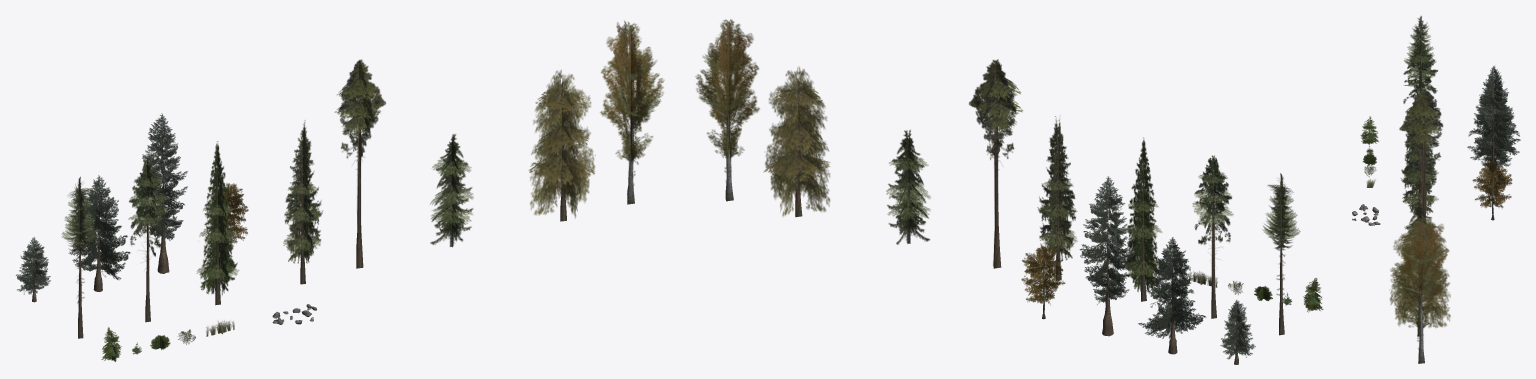
File: trees.glb
The picture shows the model from 3 angles, left to right: view 1: azimuth 30°, elevation 25°; view 2: azimuth 150°, elevation 25°; view 3: azimuth 270°, elevation 25°; orthographic projection. The views are drawn at different scales.
Visible parts, largest first — view 1: Background_Tree_Atlas.004, Background_Tree_Atlas.001, Background_Tree_Atlas, Background_Tree_Atlas.005, Background_Tree_Atlas.003, Tree_Branches_01.002, Tree_Branches_01, Background_Tree_Atlas.002, Background_Tree_Atlas.007, Background_Tree_Atlas.006, Tree_Branches_01.001, Tree_Branches_02; view 2: Background_Tree_Atlas.004, Background_Tree_Atlas.001, Tree_Branches_01, Background_Tree_Atlas.005, Background_Tree_Atlas, Tree_Branches_01.002, Background_Tree_Atlas.003, Background_Tree_Atlas.002, Background_Tree_Atlas.007, Background_Tree_Atlas.006, Tree_Branches_02, Tree_Branches_01.001 (+1 smaller); view 3: Background_Tree_Atlas.001, Background_Tree_Atlas.004, Tree_Branches_01, Background_Tree_Atlas.005, Background_Tree_Atlas.003, Tree_Branches_01.002, Tree_Branches_02, Background_Tree_Atlas.007, Background_Tree_Atlas.006, Background_Tree_Atlas, Background_Tree_Atlas.002, Background_Tree_Atlas.009 (+1 smaller).
Boxes of the visible parts, x1,y1,x2,y2 form: Background_Tree_Atlas.004: (528,70,595,221); Background_Tree_Atlas.001: (600,20,664,204); Background_Tree_Atlas: (196,141,239,305); Background_Tree_Atlas.005: (334,59,385,268); Background_Tree_Atlas.003: (283,120,322,284); Tree_Branches_01.002: (68,175,130,279); Tree_Branches_01: (139,113,187,240); Background_Tree_Atlas.002: (430,134,473,247); Background_Tree_Atlas.007: (128,159,168,322); Background_Tree_Atlas.006: (61,176,98,338); Tree_Branches_01.001: (15,237,50,294); Tree_Branches_02: (204,183,248,243); Background_Tree_Atlas.004: (763,67,830,217); Background_Tree_Atlas.001: (695,19,759,201); Tree_Branches_01: (1079,176,1135,304); Background_Tree_Atlas.005: (969,59,1023,268); Background_Tree_Atlas: (1123,137,1162,301); Tree_Branches_01.002: (1138,237,1206,339); Background_Tree_Atlas.003: (1037,115,1077,280); Background_Tree_Atlas.002: (886,130,930,244); Background_Tree_Atlas.007: (1192,155,1233,318); Background_Tree_Atlas.006: (1262,173,1300,335); Tree_Branches_02: (1021,243,1065,304); Tree_Branches_01.001: (1220,300,1255,359); Background_Tree_Atlas.001: (1390,217,1449,363); Background_Tree_Atlas.004: (1389,214,1450,336); Tree_Branches_01: (1473,65,1512,167); Background_Tree_Atlas.005: (1399,88,1443,217); Background_Tree_Atlas.003: (1400,117,1438,215); Tree_Branches_01.002: (1467,81,1520,161); Tree_Branches_02: (1472,160,1512,208); Background_Tree_Atlas.007: (1403,40,1437,113); Background_Tree_Atlas.006: (1404,16,1436,80); Background_Tree_Atlas: (1401,69,1438,191); Background_Tree_Atlas.002: (1401,201,1436,265); Background_Tree_Atlas.009: (1360,116,1378,144).
Bounding box in the file's own units: 101 × 33.75 × 30.38.
6 materials, 6 textured.
